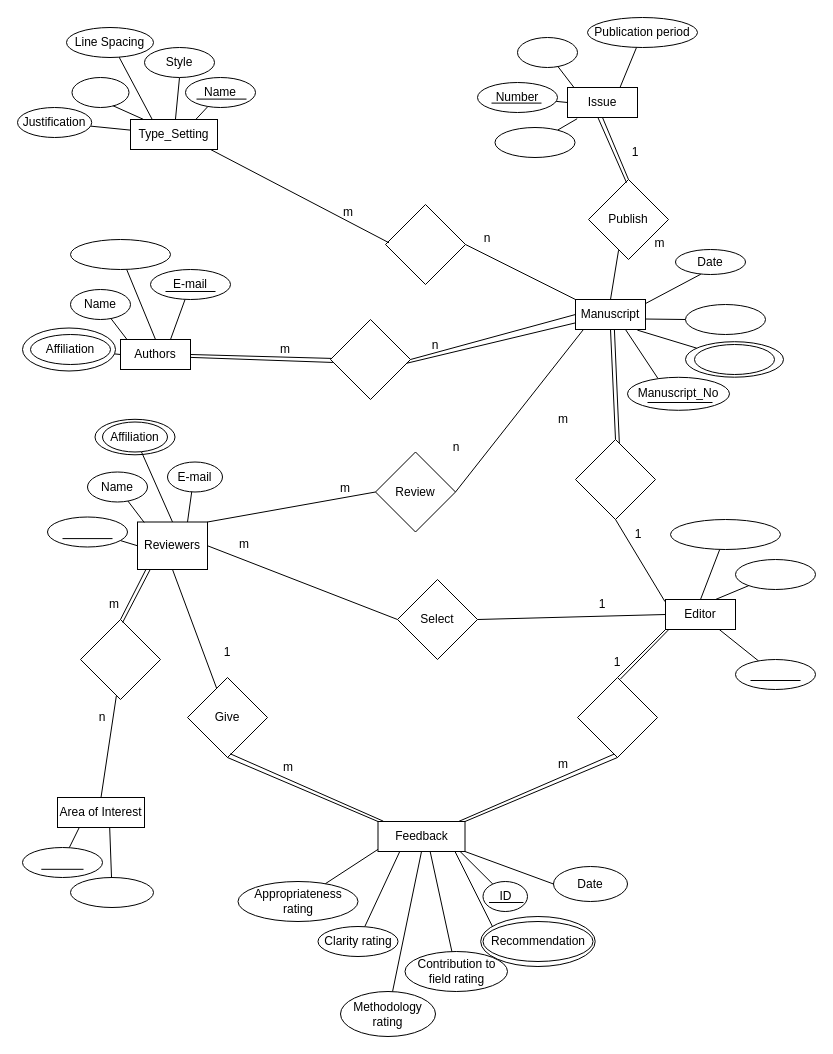
The diagram is 833 pixels wide and 1054 high, and some of its shapes have lost their labels. The shapes that lost their labels are listed below. From the top down, each one's centre as x and y in pixels, then its label:
At point (547, 52): "Volume".
At point (100, 92): "Size".
At point (534, 142): "Pub_year".
At point (120, 254): "Mailing Address".
At point (425, 244): "Format".
At point (725, 319): "Title".
At point (370, 359): "Write".
At point (734, 359): "Status".
At point (615, 479): "Received".
At point (87, 531): "Rev No".
At point (725, 534): "Years of Expertise".
At point (775, 574): "Full Name".
At point (120, 659): "Interest".
At point (775, 674): "Mobile No".
At point (617, 717): "Record".
At point (62, 862): "IS code".
At point (112, 892): "Description".
